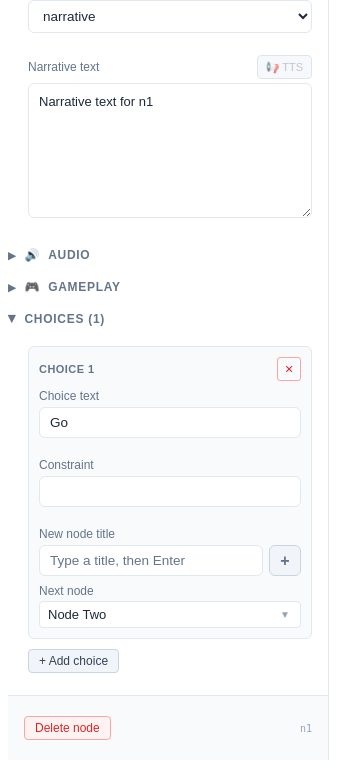
Test case: CompanionPanel — NodeComboField (next node) › closing when focus leaves › closes the node list when Tab moves focus out of Next node
(page scrolled)
Click the dropdown labelled "Next node" at (170, 614), box [39, 601, 301, 628]
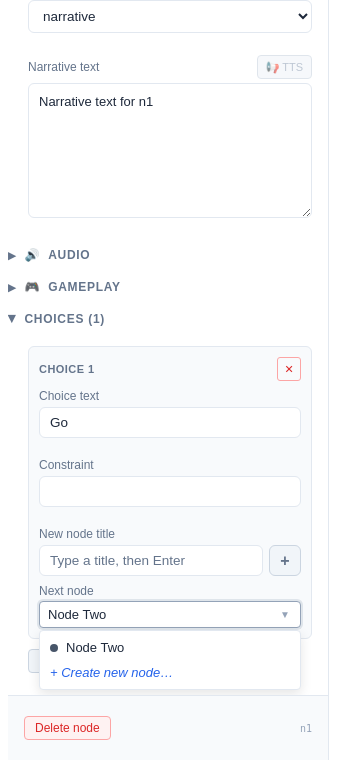
Expected: the list is shown, [39, 630, 301, 690]
Press Tab
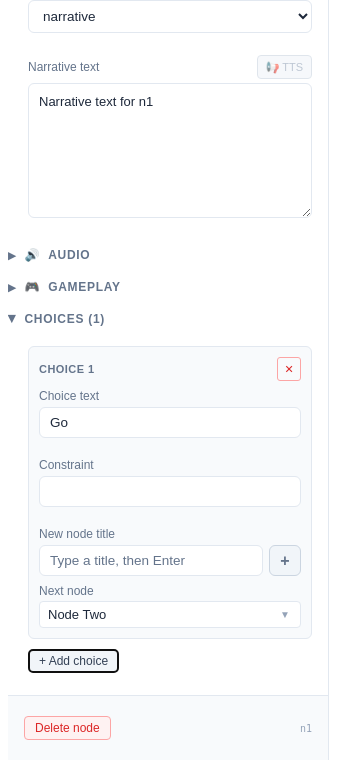
Expected: the list is gone
